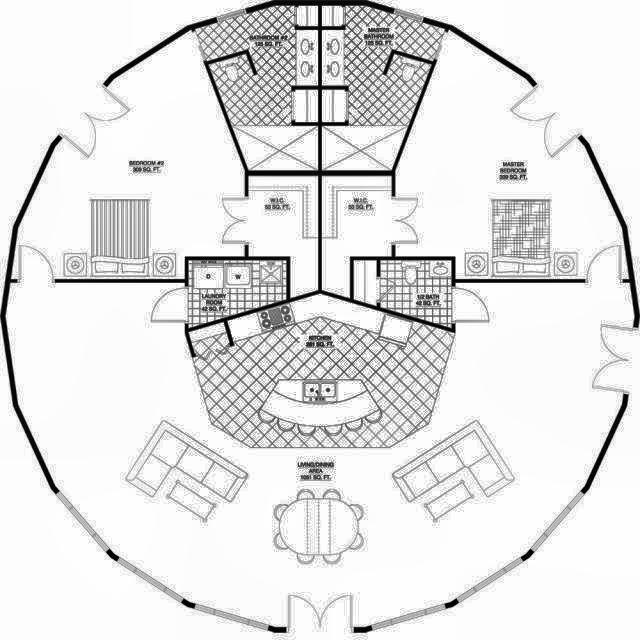room: (5, 282, 634, 627), (11, 30, 245, 279), (395, 30, 629, 279), (321, 5, 445, 171), (195, 5, 318, 170), (248, 175, 319, 298), (322, 176, 392, 299), (188, 260, 286, 329), (380, 260, 452, 329), (353, 260, 377, 306)
